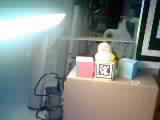duck: (89, 34, 116, 65)
